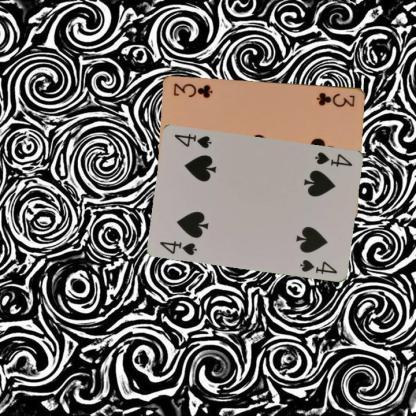3c: (314, 90, 356, 108)
4s: (313, 149, 354, 168), (158, 238, 198, 256)
